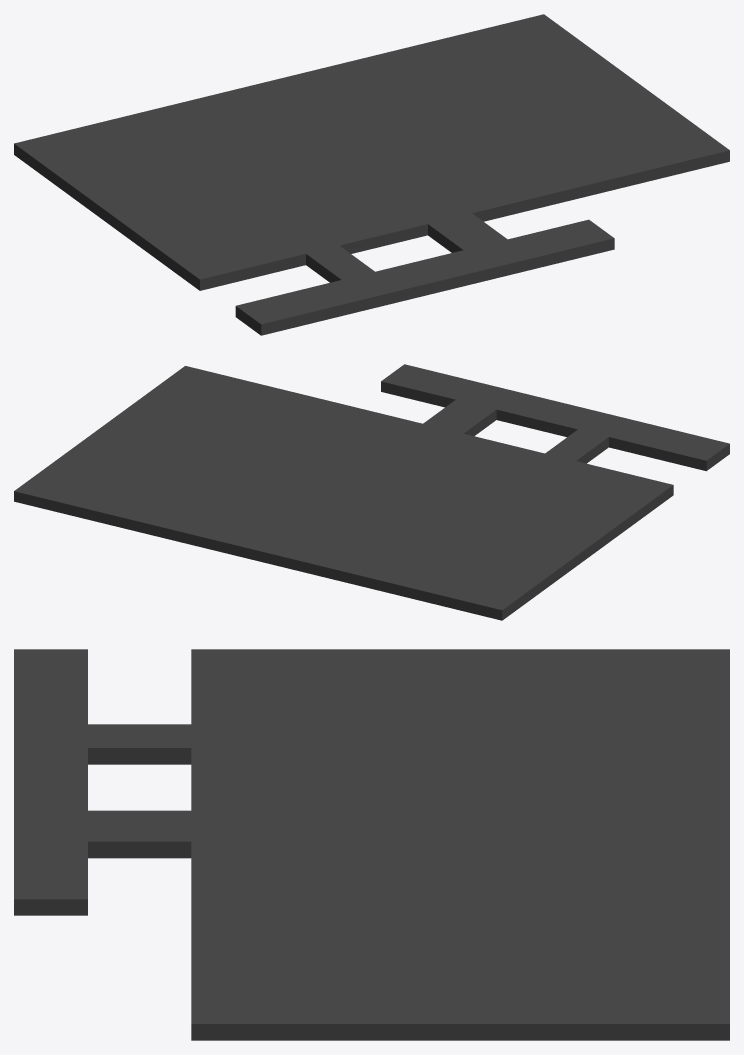
The model's file is Groud001.fbx.
3 renders of one model, top to bottom at view 1: azimuth 30°, elevation 25°; view 2: azimuth 150°, elevation 25°; view 3: azimuth 270°, elevation 25°, orthographic. The views are drawn at different scales.
Visible parts, largest first — view 1: Ground001; view 2: Ground001; view 3: Ground001.
Boxes of the visible parts, x1=… form: Ground001: x1=14, y1=14, x2=729, y2=335; Ground001: x1=14, y1=364, x2=729, y2=620; Ground001: x1=14, y1=649, x2=729, y2=1040.
Size of the model in its own units: 7218 by 148 by 5831.
